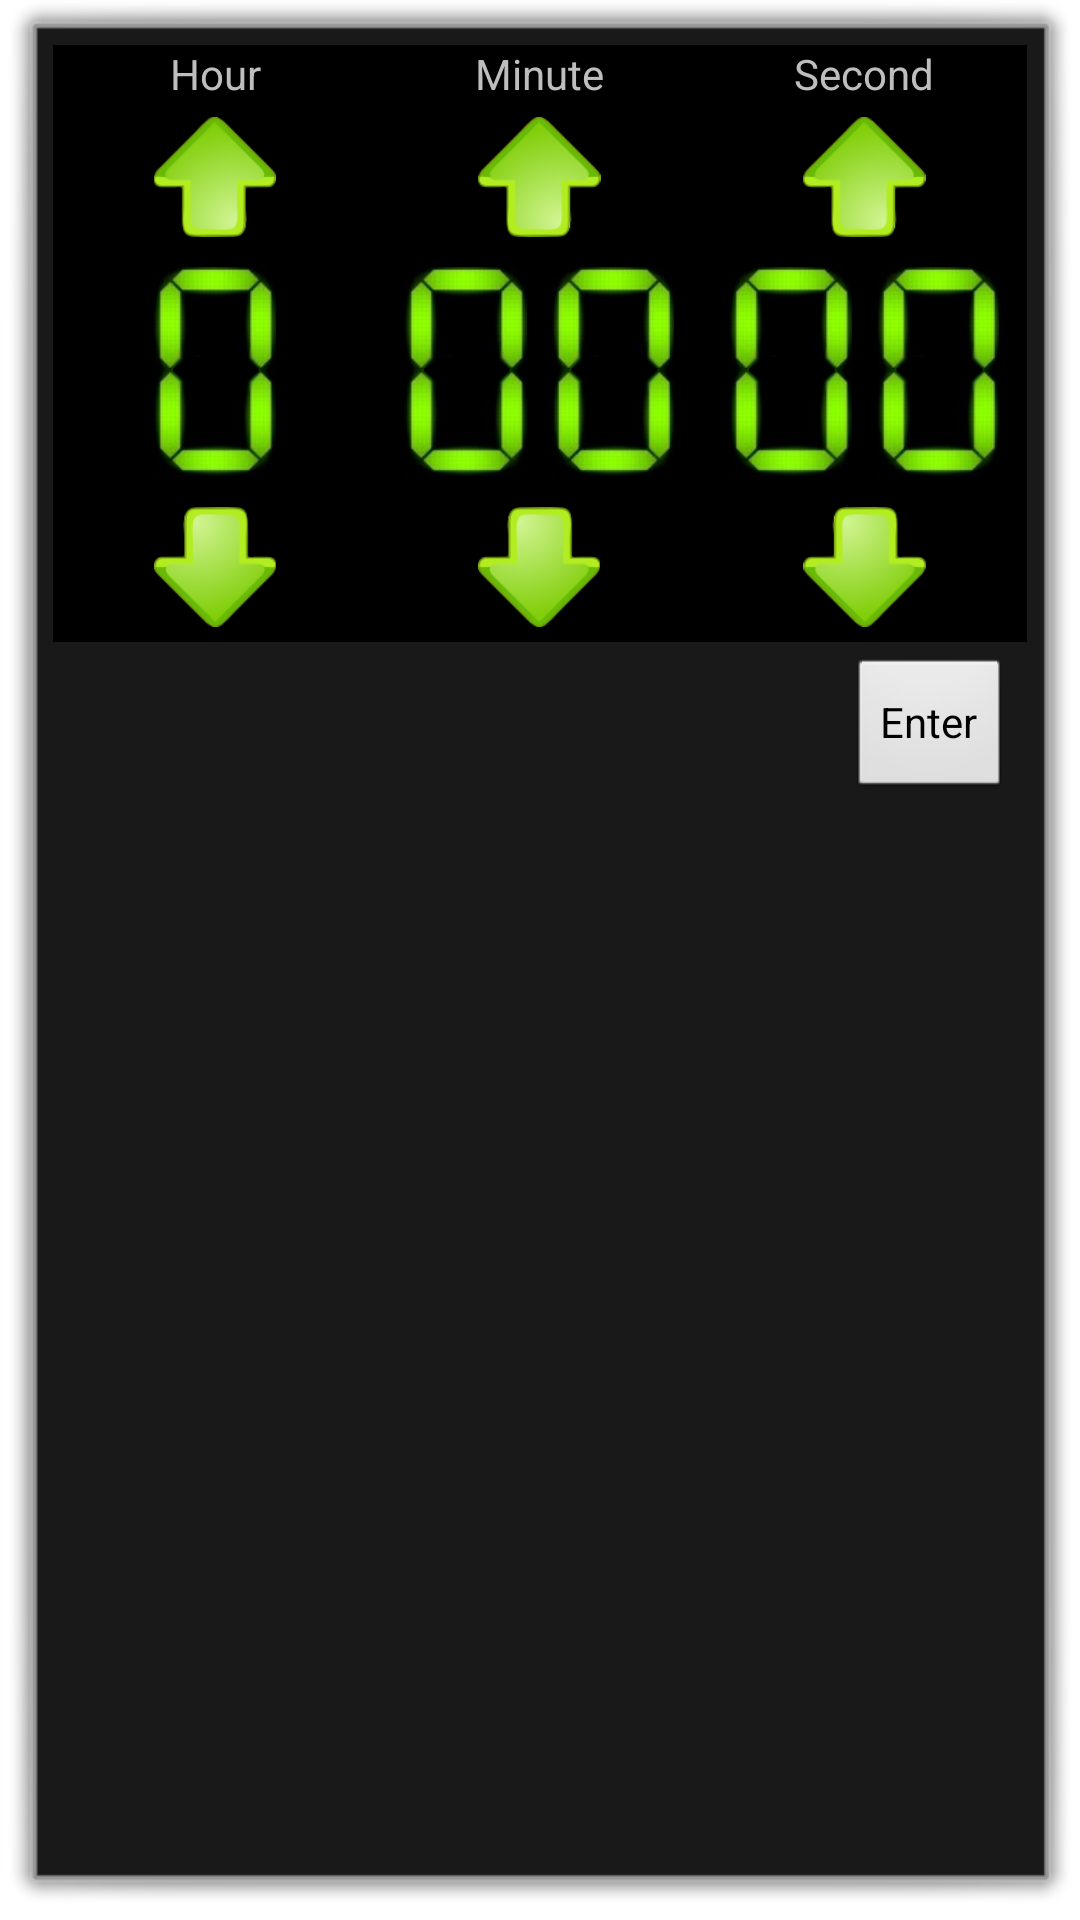

Where icons sit on this 1080×1920 app screen, as {"x1": x1, "y1": y1, "x2": x2, "y2": y2}:
down: {"x1": 154, "y1": 507, "x2": 252, "y2": 597}, {"x1": 478, "y1": 507, "x2": 576, "y2": 597}, {"x1": 803, "y1": 507, "x2": 926, "y2": 597}
